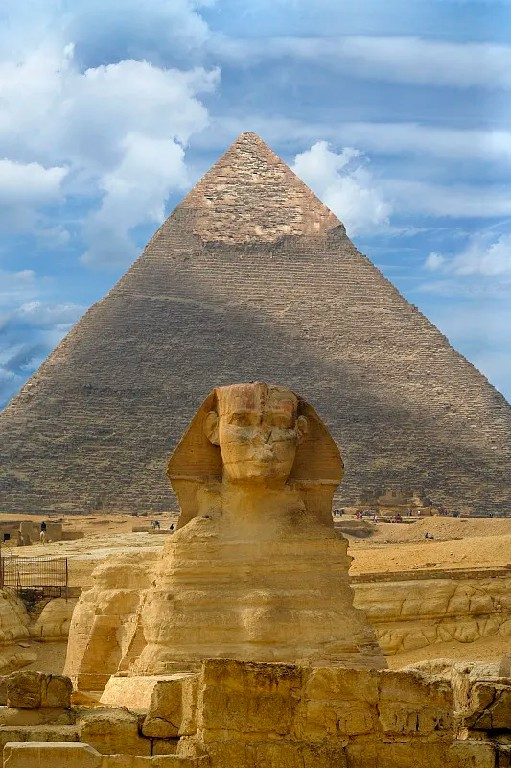Pyramid: (1, 132, 511, 517)
